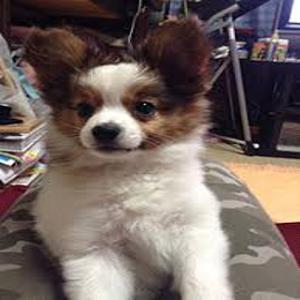yell: (26, 19, 235, 300)
